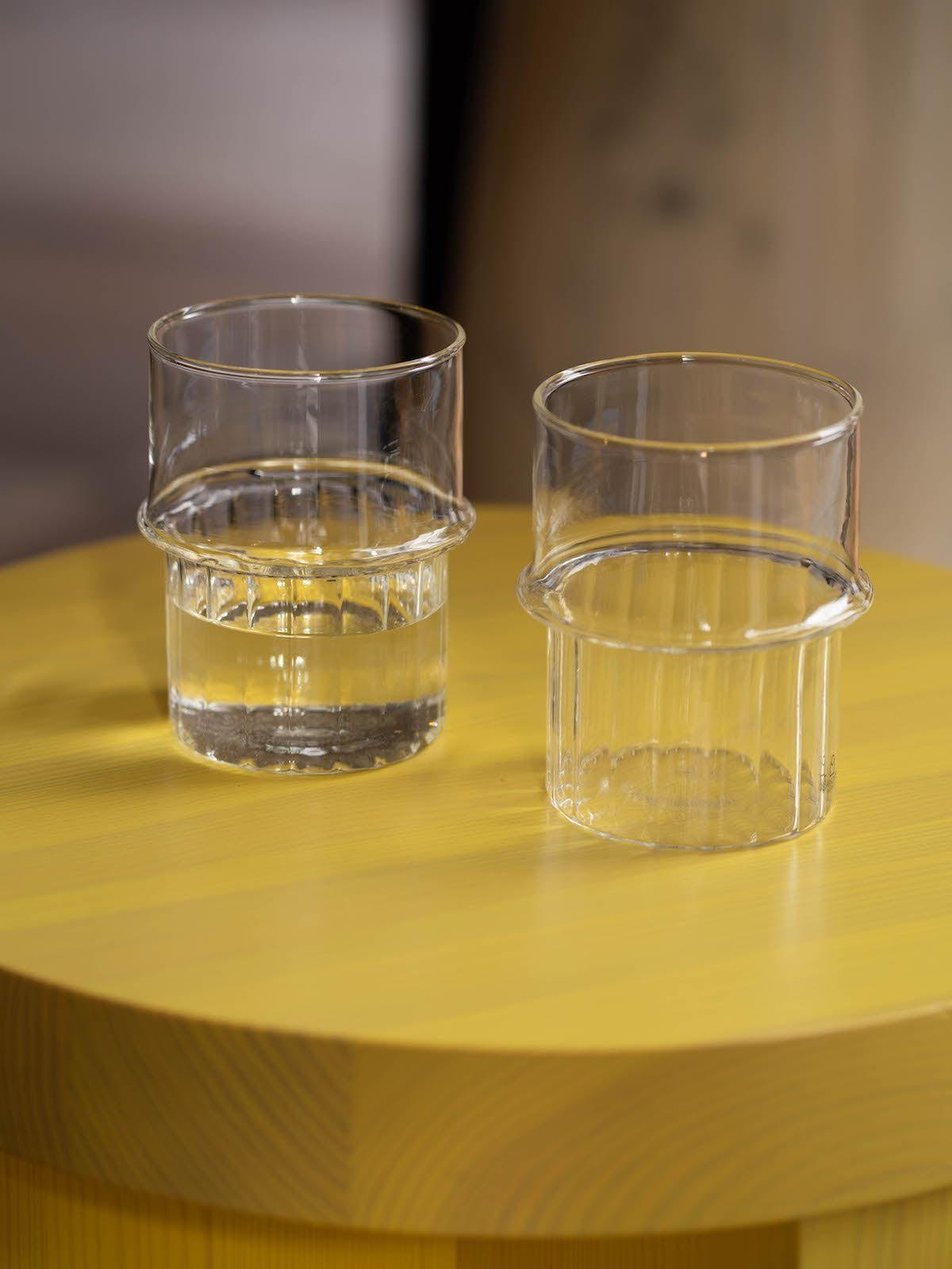glass-normal: (516, 347, 869, 853), (137, 289, 470, 780)
